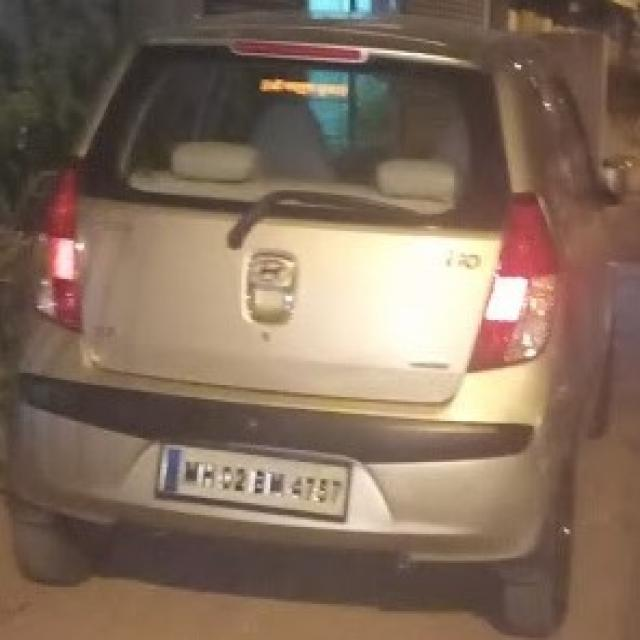Number-Plate: (159, 452, 351, 509)
